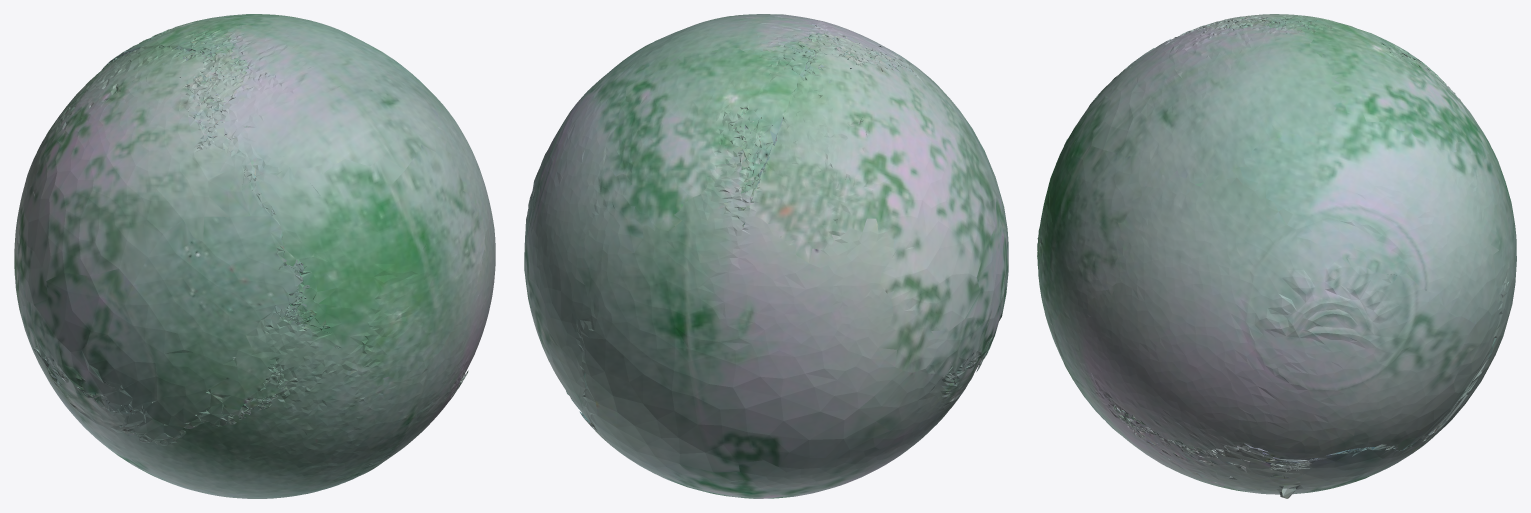
The model's file is Aligned_obj.obj.
3 renders of one model, left to right at view 1: azimuth 30°, elevation 25°; view 2: azimuth 150°, elevation 25°; view 3: azimuth 270°, elevation 25°, orthographic.
Visible parts, largest first — view 1: qiu; view 2: qiu; view 3: qiu.
Part boxes in pixels (x1,y1,x2,y2): qiu: [14, 14, 495, 498]; qiu: [524, 14, 1008, 498]; qiu: [1037, 14, 1516, 498].
Size of the model in its own units: 54.45 by 54.55 by 54.48.
